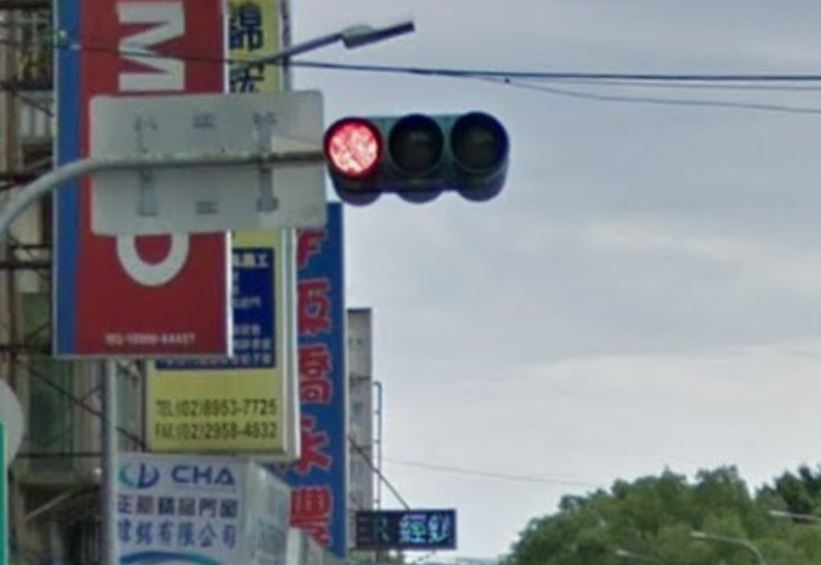Traffic_light_red: (324, 114, 510, 182)
